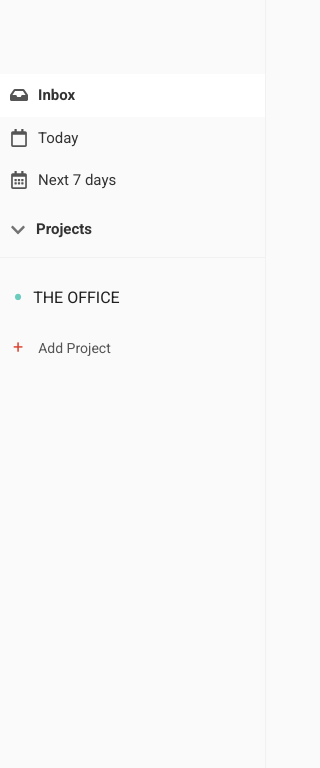
Test case: <Sidebar /> › Success › hides and shows the sidebar projects using onclick
Click the button "Projects" at x=64, y=228, box [0,222,265,258]
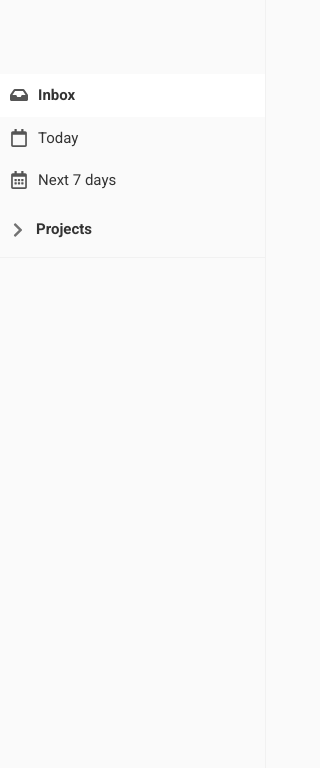
Now the text "Add Project" is gone
Click the button "Projects" at x=64, y=228, box [0,222,265,258]
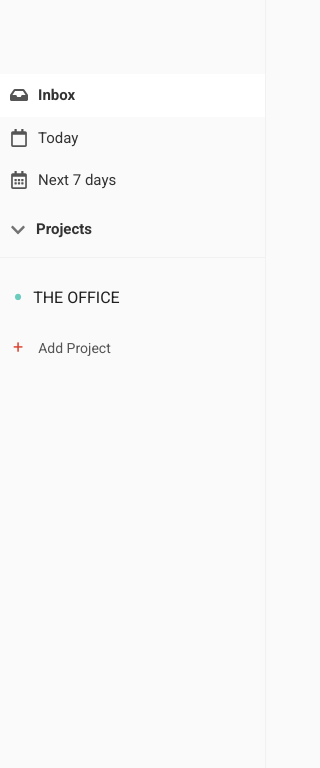
Now the text "Add Project" is shown, box [38,340,111,354]
